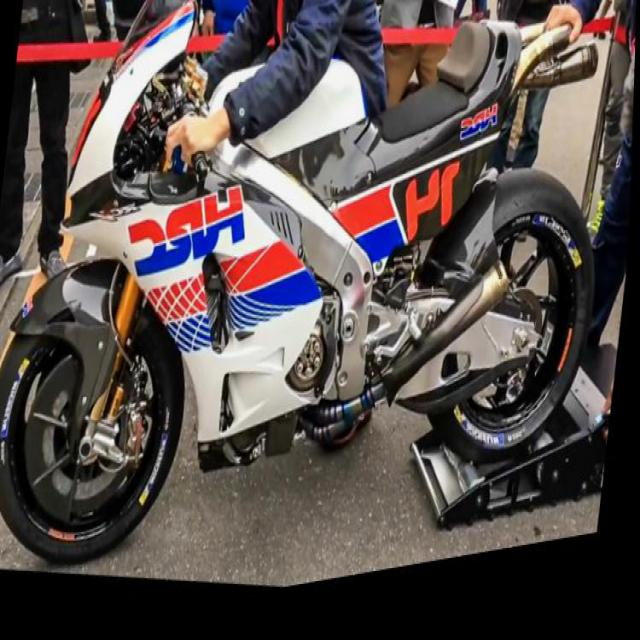HRC RCV 213: (0, 0, 635, 639)
